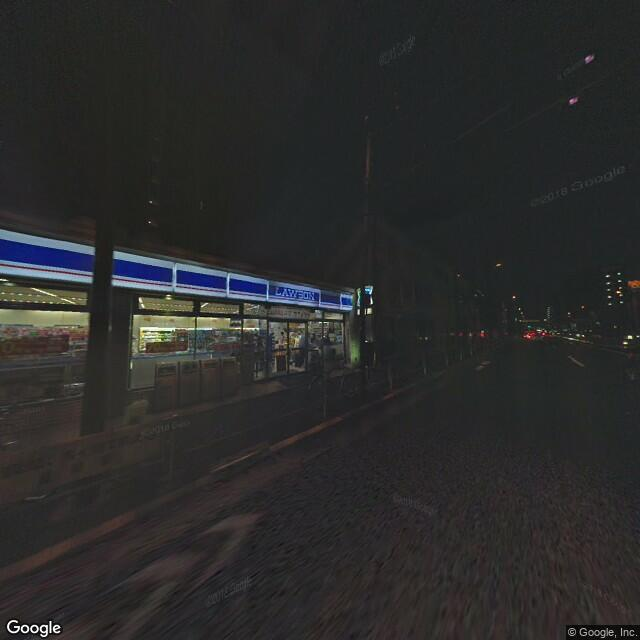lawson: (2, 224, 353, 317)
